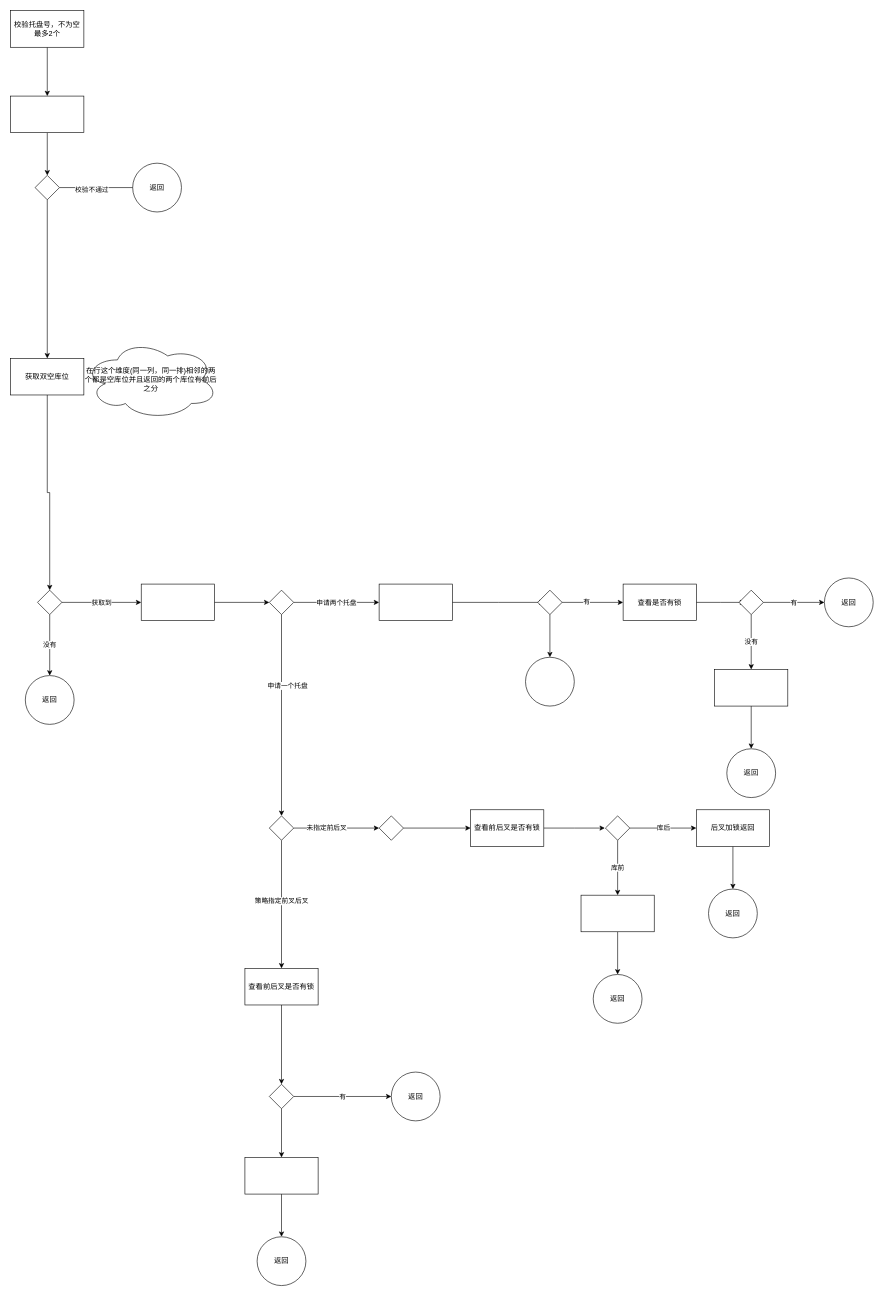
This 884x1296 diagram has some shape labels left out. The centre of each missing label's shape, as x and y in pixels:
前叉加锁返回: the point at 617,913
库位加锁: the point at 751,687
抛异常，可用库位不足: the point at 549,681
校验仓库: the point at 47,114
校验可用是否两个可用库位: the point at 415,602
根据策略入参，前后叉库位加锁: the point at 281,1175
获取前后工位: the point at 177,602
